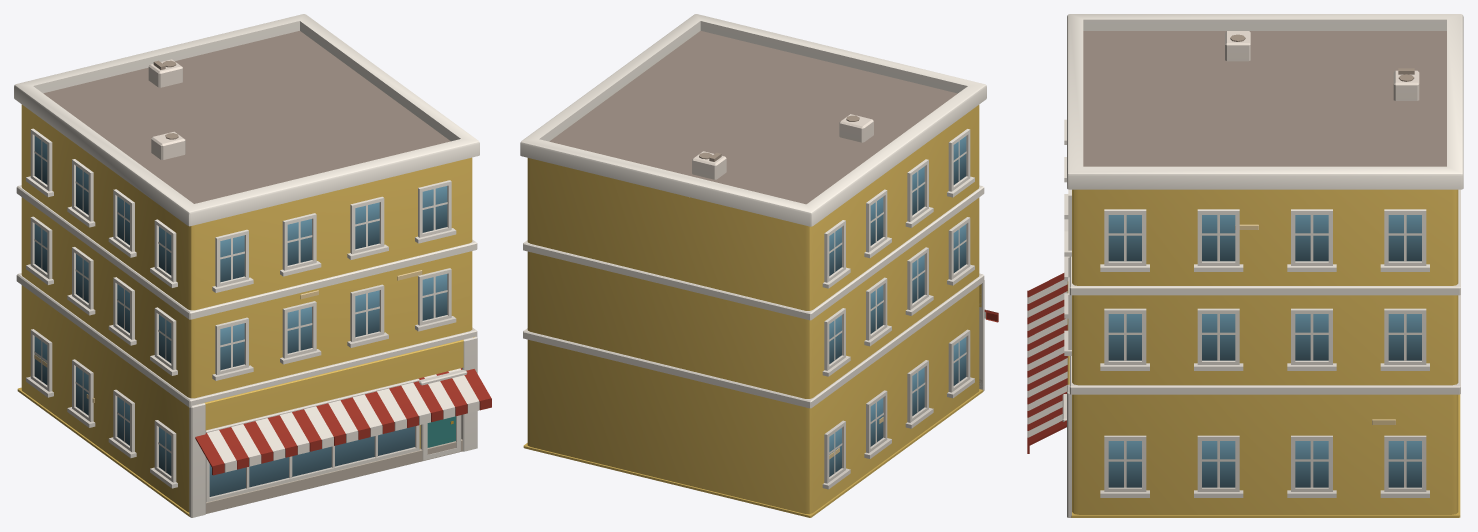
Rendered from beacon_w2.glb.
3 renders of one model, left to right at view 1: azimuth 30°, elevation 25°; view 2: azimuth 150°, elevation 25°; view 3: azimuth 270°, elevation 25°, orthographic. The views are drawn at different scales.
Parts seen in each view (by area): view 1: beacon_w2; view 2: beacon_w2; view 3: beacon_w2.
Boxes of the visible parts, x1,y1,x2,y2 form: beacon_w2: (14,14,491,517); beacon_w2: (520,14,998,517); beacon_w2: (1027,14,1463,517).
Size of the model in its own units: 11.98 by 12.19 by 13.55.
Materials: 1 (1 with a texture image).
